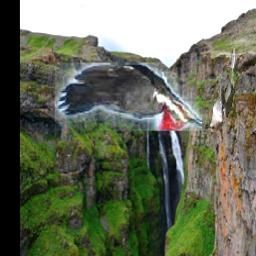Cuckoo: (203, 46, 235, 132)
Woodpecker: (55, 63, 202, 131)
